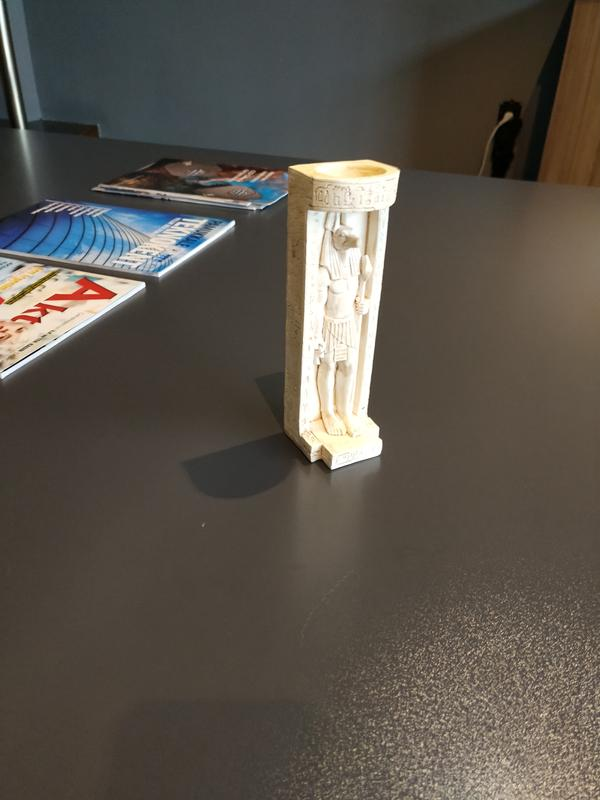heykel: (272, 151, 408, 476)
